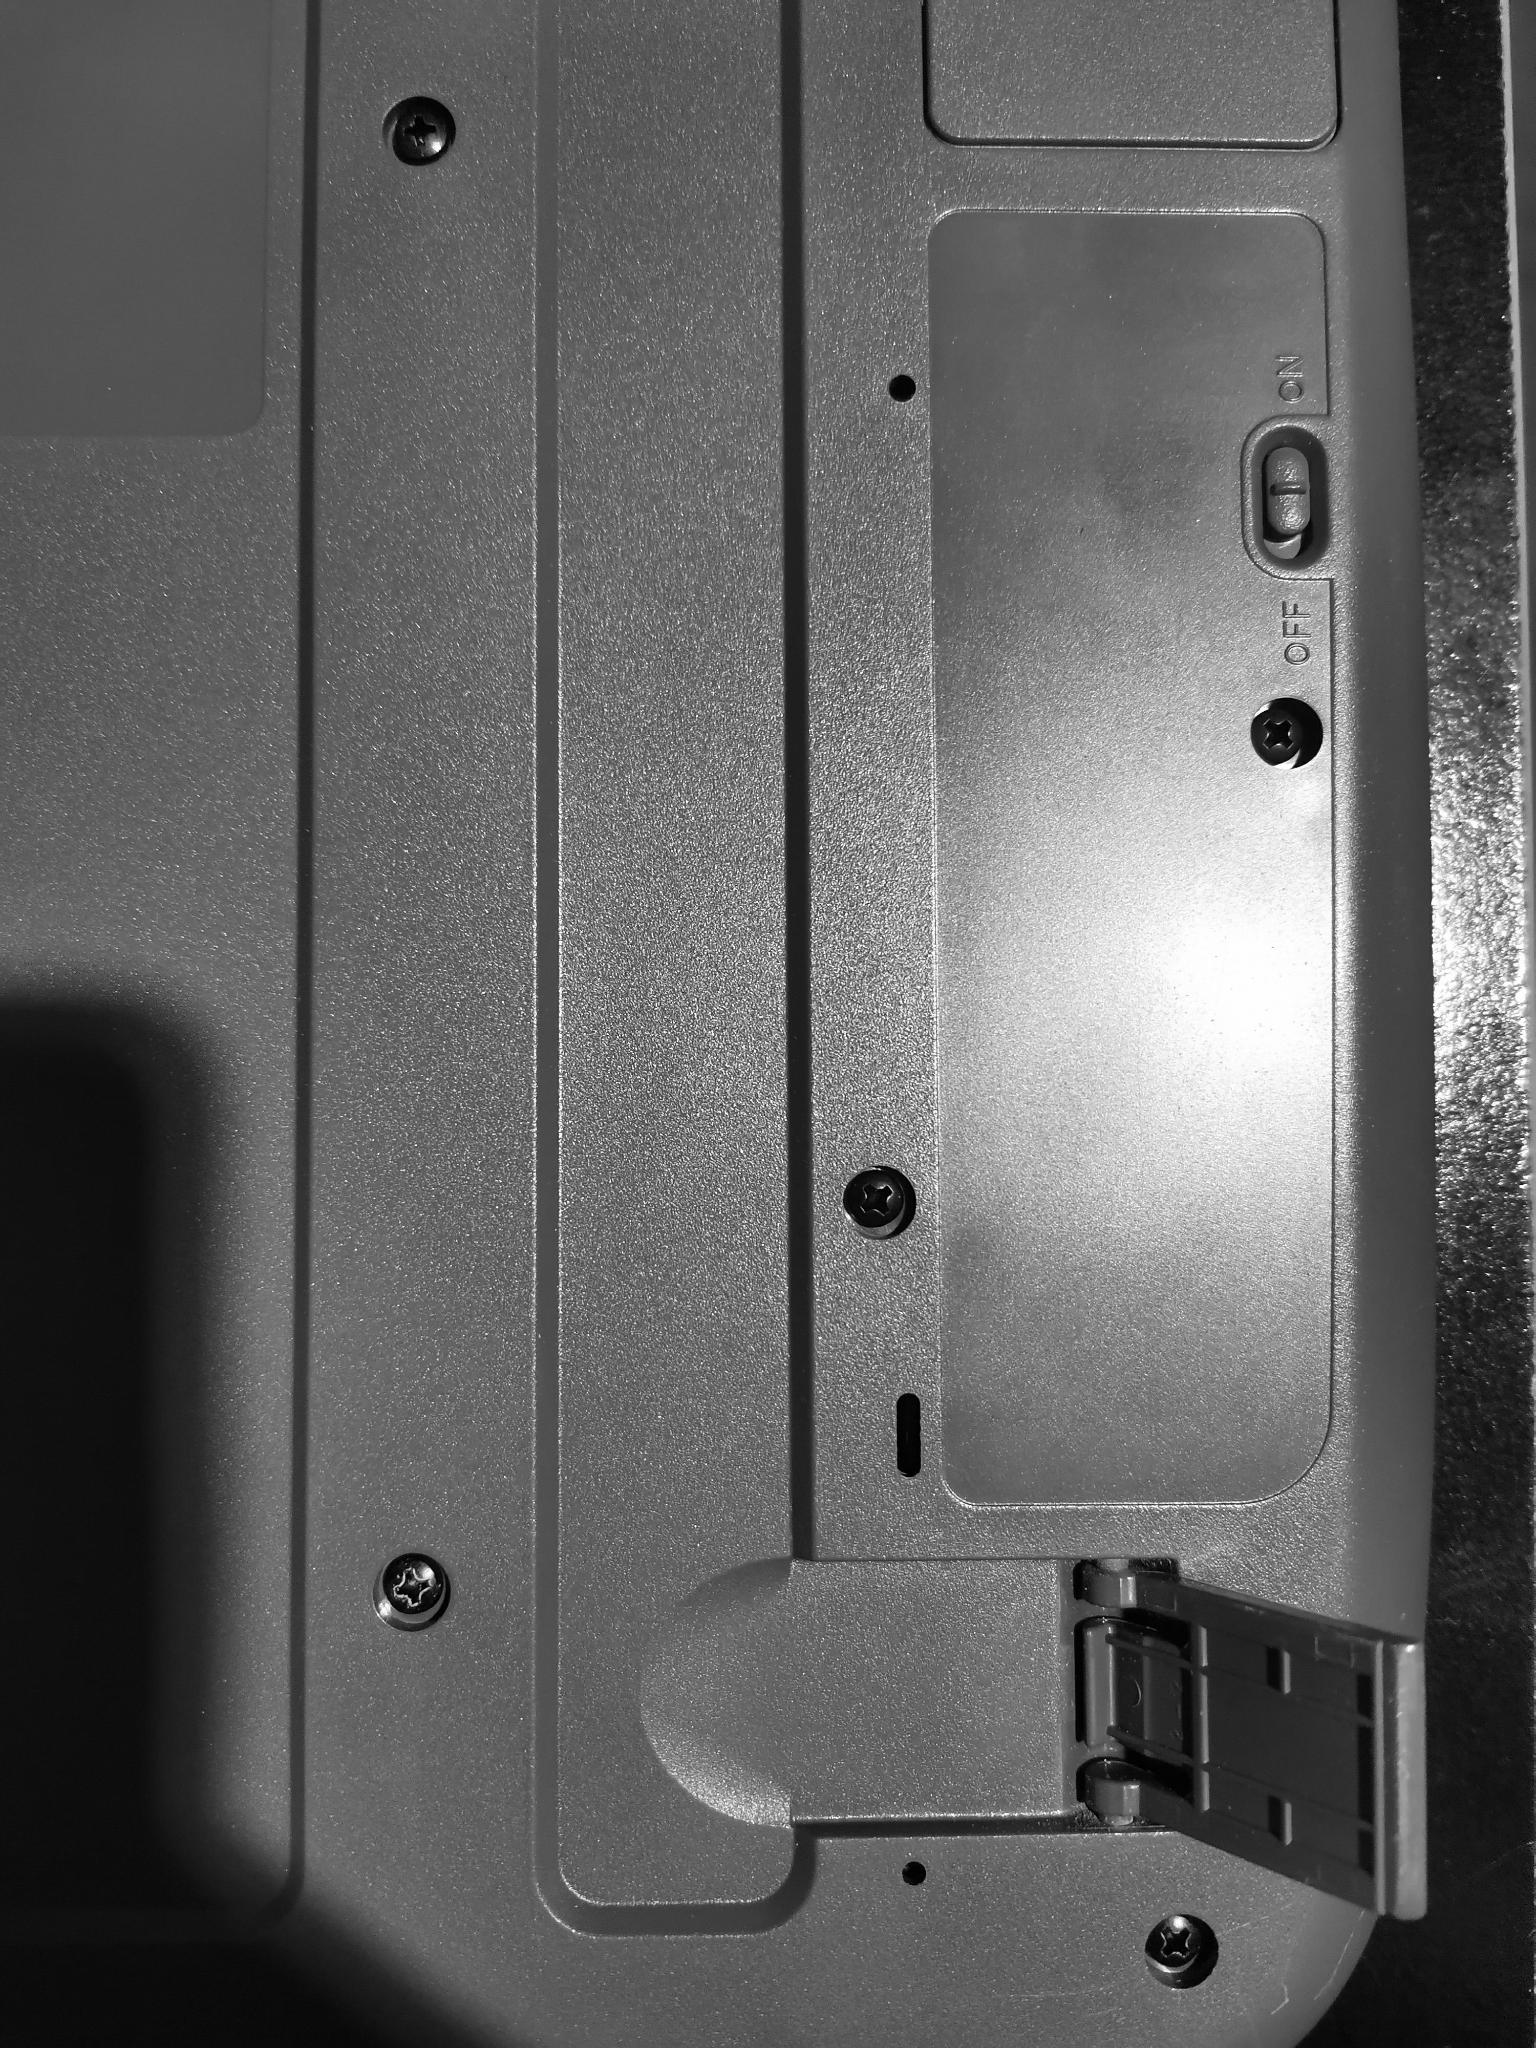philips-PZ: (379, 89, 457, 169), (839, 1163, 908, 1234), (378, 1553, 450, 1621), (1252, 695, 1312, 769), (1146, 1914, 1208, 1974)
